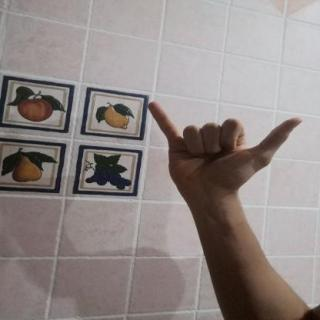YA: (135, 93, 312, 209)
